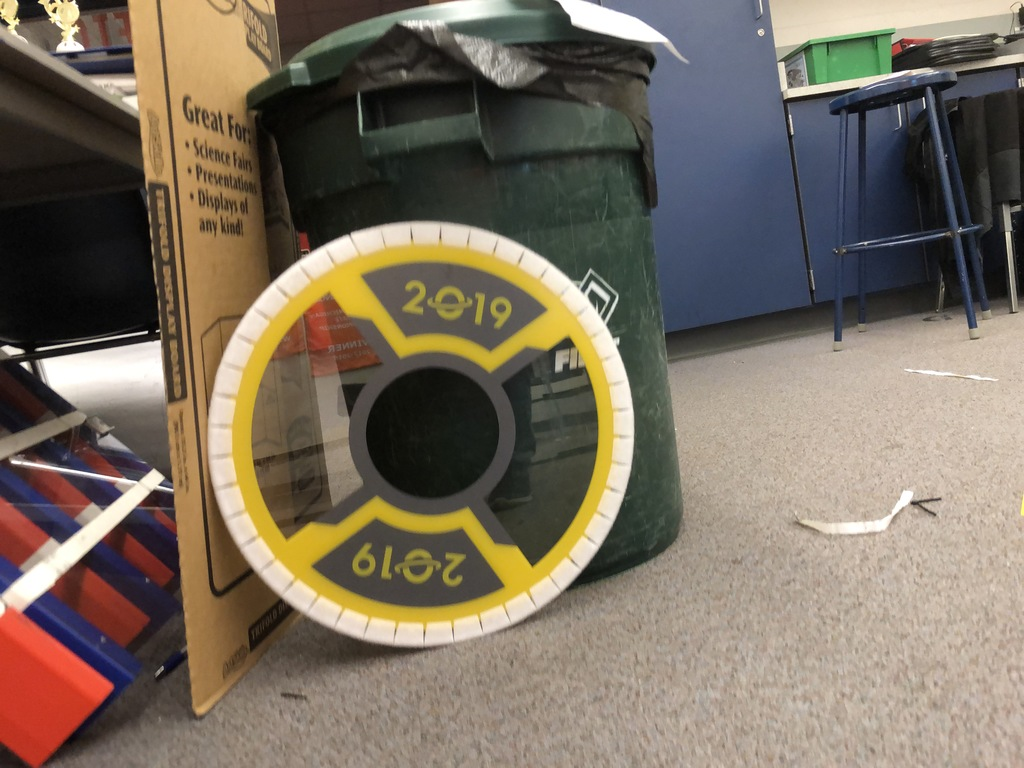hatch_panel: (183, 201, 640, 666)
